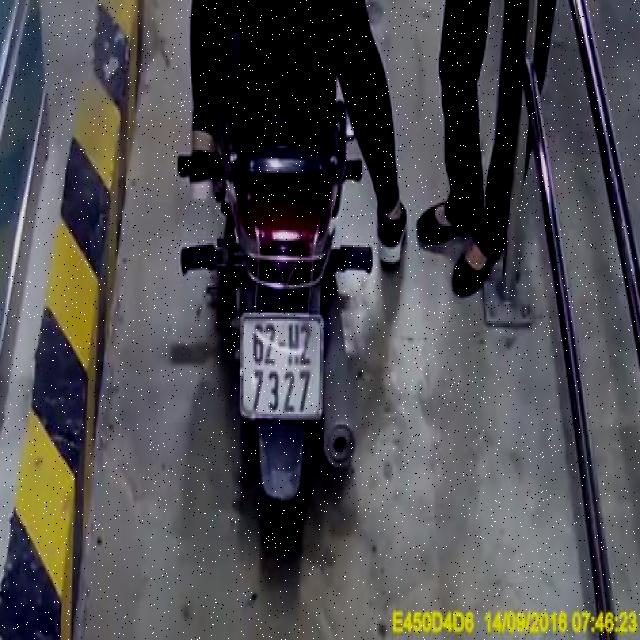2: (282, 368, 297, 412), (265, 322, 279, 366), (302, 322, 312, 366)
3: (269, 368, 282, 410)
6: (253, 320, 264, 366)
7: (297, 366, 312, 415), (251, 364, 264, 409)
H: (288, 322, 300, 365)
